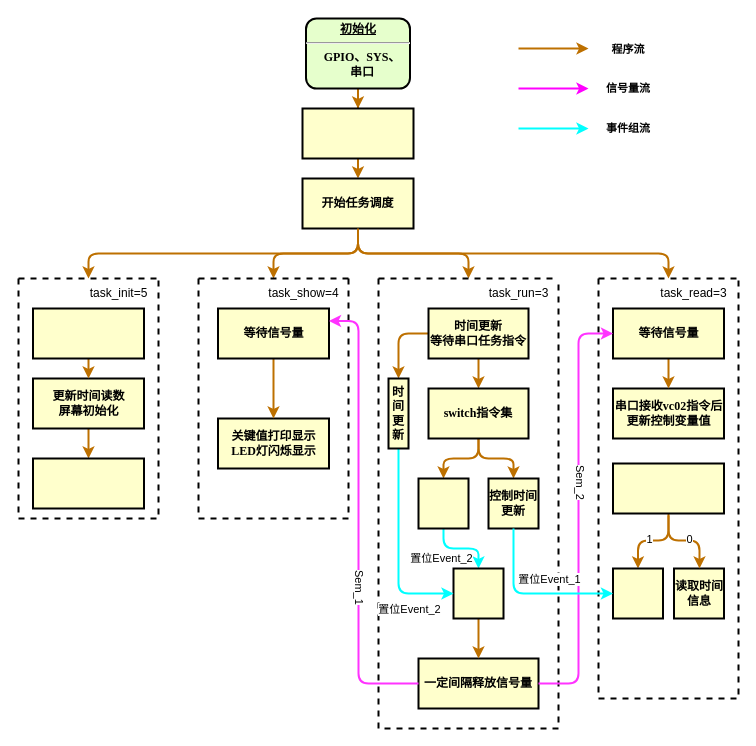
Image size: 756x746. Some labels were removed from this diagram. Each missing label, with the centre of its shape:
"0停留等待事件组Event_02" goes at point (668, 488).
"FreeRTOS初始化" goes at point (357, 133).
"task_init自杀" goes at point (88, 483).
"屏幕显示更新" goes at point (478, 593).
"开启串口接收中断" goes at point (88, 333).
"控制事件更新" goes at point (443, 503).
"更新时钟芯片时间" goes at point (638, 593).
